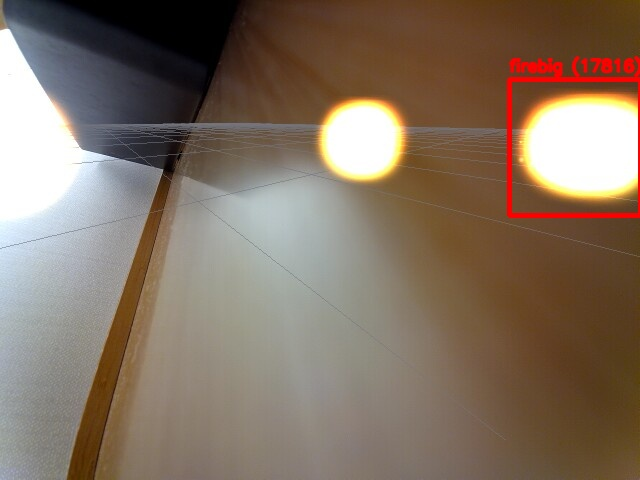firebig: (509, 79, 640, 215)
